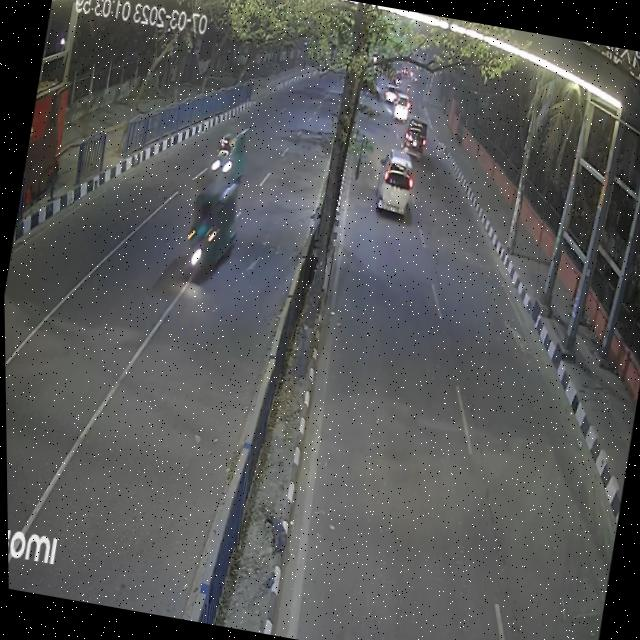cng: (180, 172, 245, 276)
